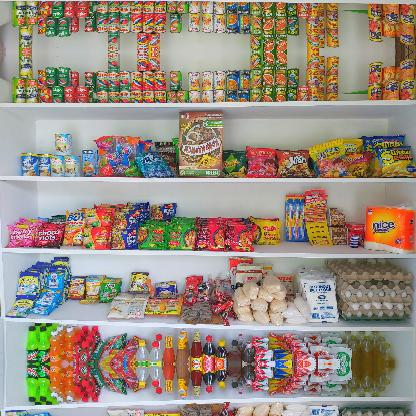Koko-Krunch: (178, 111, 224, 177)
